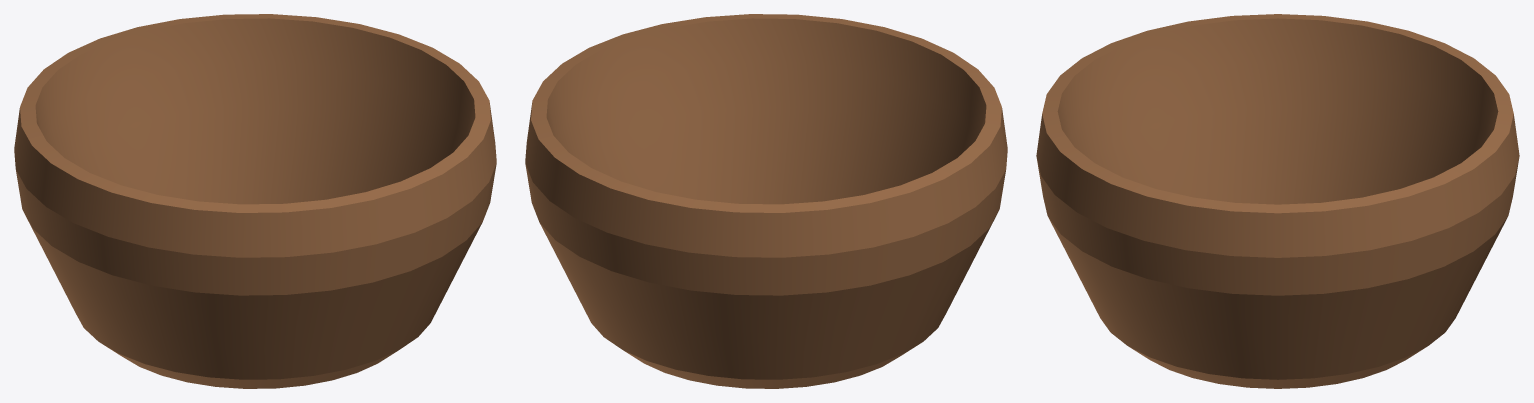
The model's file is Bowl.fbx.
The picture shows the model from 3 angles, left to right: view 1: azimuth 30°, elevation 25°; view 2: azimuth 150°, elevation 25°; view 3: azimuth 270°, elevation 25°; orthographic projection.
Visible parts, largest first — view 1: Sphere.002; view 2: Sphere.002; view 3: Sphere.002.
Part boxes in pixels (box(x1,y1,x2,y2)): Sphere.002: box(14, 14, 496, 388); Sphere.002: box(525, 14, 1007, 388); Sphere.002: box(1036, 14, 1519, 388).
Bounding box in the file's own units: 6.87 × 3.33 × 6.87.
